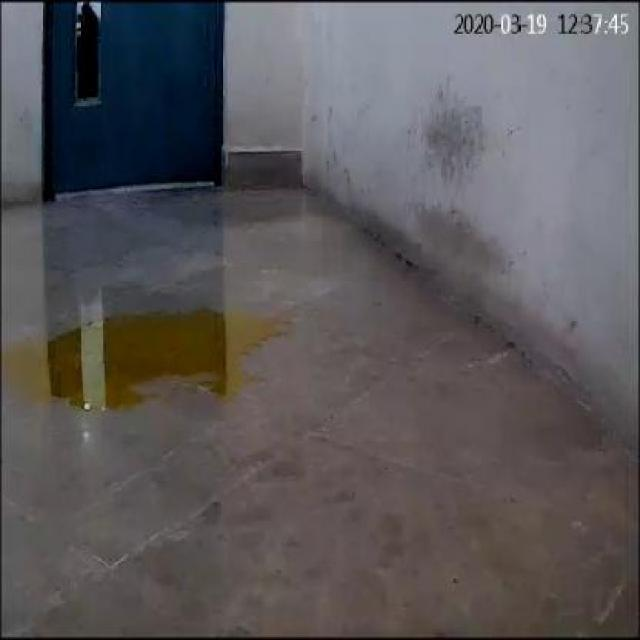spill: (1, 297, 294, 412)
